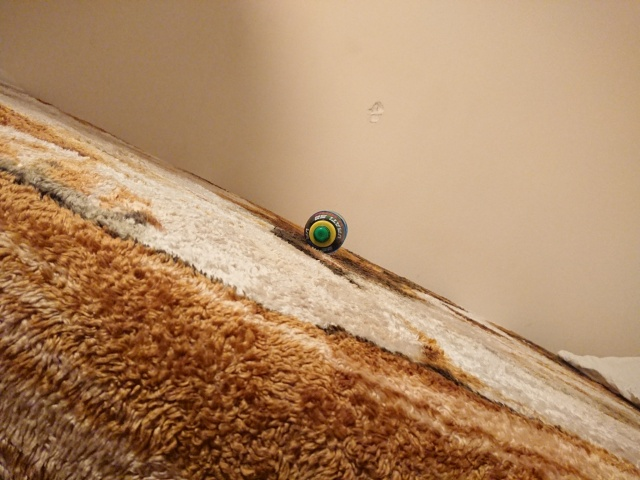Vindi Iso Sport Forest Strawberries 500mL: (302, 208, 348, 253)
